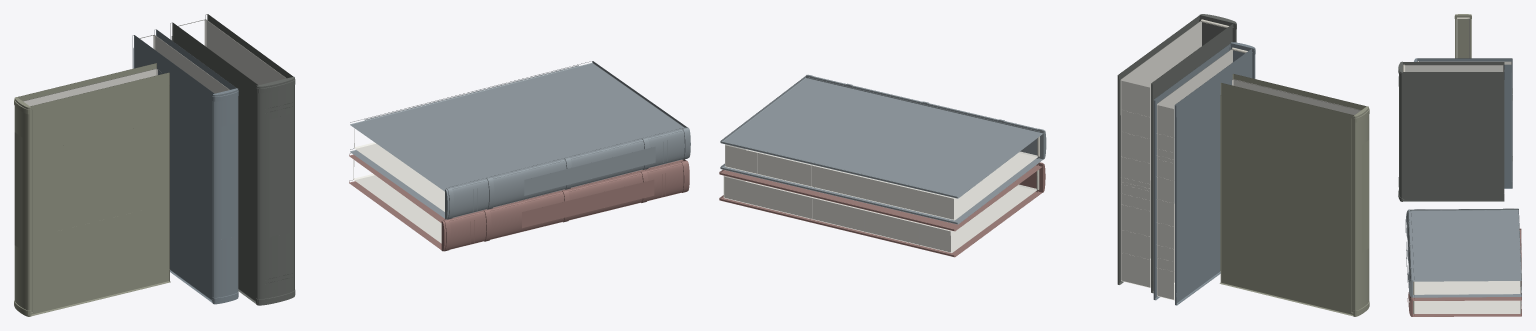
The model's file is X14_LRSGRAY_BOOKS_S04_bk0.glb.
3 renders of one model, left to right at view 1: azimuth 30°, elevation 25°; view 2: azimuth 150°, elevation 25°; view 3: azimuth 270°, elevation 25°, orthographic. The views are drawn at different scales.
Parts seen in each view (by area): view 1: S06_SPARSE_USED_A_S06_SPARSE_USED_B06_book_04_cover_-1, S06_SPARSE_USED_A_S06_SPARSE_USED_B01_book_01_cover_1, S06_SPARSE_USED_A_S06_SPARSE_USED_B02_book_01_cover_-1, S06_SPARSE_USED_A_S06_SPARSE_USED_B01_book_01_TITLE_SURFACE_ (×2), S06_SPARSE_USED_A_S06_SPARSE_USED_B03_book_05_spine, S06_SPARSE_USED_A_S06_SPARSE_USED_B03_book_05_cover_-1, S06_SPARSE_USED_A_S06_SPARSE_USED_B05_book_04_spine, S06_SPARSE_USED_A_S06_SPARSE_USED_B06_book_04_spine, S06_SPARSE_USED_A_S06_SPARSE_USED_B02_book_01_spine, S06_SPARSE_USED_A_S06_SPARSE_USED_B01_book_01_spine, S06_SPARSE_USED_A_S06_SPARSE_USED_B03_book_05_TITLE_SURFACE_, S06_SPARSE_USED_A_S06_SPARSE_USED_B05_book_04_TITLE_SURFACE_ (+13 smaller); view 2: S06_SPARSE_USED_A_S06_SPARSE_USED_B01_book_01_cover_-1, S06_SPARSE_USED_A_S06_SPARSE_USED_B06_book_04_cover_-1, S06_SPARSE_USED_A_S06_SPARSE_USED_B02_book_01_cover_-1, S06_SPARSE_USED_A_S06_SPARSE_USED_B03_book_05_pages, S06_SPARSE_USED_A_S06_SPARSE_USED_B05_book_04_pages, S06_SPARSE_USED_A_S06_SPARSE_USED_B06_book_04_pages, S06_SPARSE_USED_A_S06_SPARSE_USED_B02_book_01_pages, S06_SPARSE_USED_A_S06_SPARSE_USED_B01_book_01_spine, S06_SPARSE_USED_A_S06_SPARSE_USED_B05_book_04_cover_-1, S06_SPARSE_USED_A_S06_SPARSE_USED_B03_book_05_cover_-1, S06_SPARSE_USED_A_S06_SPARSE_USED_B05_book_04_cover_1, S06_SPARSE_USED_A_S06_SPARSE_USED_B06_book_04_cover_1 (+8 smaller); view 3: S06_SPARSE_USED_A_S06_SPARSE_USED_B03_book_05_cover_1, S06_SPARSE_USED_A_S06_SPARSE_USED_B06_book_04_cover_-1, S06_SPARSE_USED_A_S06_SPARSE_USED_B03_book_05_TITLE_SURFACE_, S06_SPARSE_USED_A_S06_SPARSE_USED_B06_book_04_pages, S06_SPARSE_USED_A_S06_SPARSE_USED_B05_book_04_pages, S06_SPARSE_USED_A_S06_SPARSE_USED_B02_book_01_cover_1, S06_SPARSE_USED_A_S06_SPARSE_USED_B01_book_01_spine, S06_SPARSE_USED_A_S06_SPARSE_USED_B03_book_05_pages, S06_SPARSE_USED_A_S06_SPARSE_USED_B03_book_05_spine, S06_SPARSE_USED_A_S06_SPARSE_USED_B05_book_04_cover_-1, S06_SPARSE_USED_A_S06_SPARSE_USED_B06_book_04_cover_1, S06_SPARSE_USED_A_S06_SPARSE_USED_B02_book_01_cover_-1 (+9 smaller).
Boxes of the visible parts, x1=… form: S06_SPARSE_USED_A_S06_SPARSE_USED_B06_book_04_cover_-1: x1=350, y1=61, x2=687, y2=191; S06_SPARSE_USED_A_S06_SPARSE_USED_B01_book_01_cover_1: x1=30, y1=72, x2=170, y2=316; S06_SPARSE_USED_A_S06_SPARSE_USED_B02_book_01_cover_-1: x1=132, y1=35, x2=214, y2=302; S06_SPARSE_USED_A_S06_SPARSE_USED_B01_book_01_TITLE_SURFACE_ (×2): x1=14, y1=126, x2=142, y2=250; S06_SPARSE_USED_A_S06_SPARSE_USED_B03_book_05_spine: x1=256, y1=76, x2=294, y2=305; S06_SPARSE_USED_A_S06_SPARSE_USED_B03_book_05_cover_-1: x1=170, y1=22, x2=258, y2=303; S06_SPARSE_USED_A_S06_SPARSE_USED_B05_book_04_spine: x1=441, y1=161, x2=689, y2=251; S06_SPARSE_USED_A_S06_SPARSE_USED_B06_book_04_spine: x1=445, y1=127, x2=690, y2=219; S06_SPARSE_USED_A_S06_SPARSE_USED_B02_book_01_spine: x1=212, y1=88, x2=238, y2=304; S06_SPARSE_USED_A_S06_SPARSE_USED_B01_book_01_spine: x1=14, y1=97, x2=31, y2=316; S06_SPARSE_USED_A_S06_SPARSE_USED_B03_book_05_TITLE_SURFACE_: x1=269, y1=115, x2=289, y2=237; S06_SPARSE_USED_A_S06_SPARSE_USED_B05_book_04_TITLE_SURFACE_: x1=522, y1=179, x2=654, y2=227; S06_SPARSE_USED_A_S06_SPARSE_USED_B01_book_01_cover_-1: x1=1219, y1=82, x2=1353, y2=316; S06_SPARSE_USED_A_S06_SPARSE_USED_B06_book_04_cover_-1: x1=720, y1=76, x2=1043, y2=198; S06_SPARSE_USED_A_S06_SPARSE_USED_B02_book_01_cover_-1: x1=1174, y1=48, x2=1251, y2=305; S06_SPARSE_USED_A_S06_SPARSE_USED_B03_book_05_pages: x1=1120, y1=21, x2=1226, y2=287; S06_SPARSE_USED_A_S06_SPARSE_USED_B05_book_04_pages: x1=723, y1=175, x2=1037, y2=252; S06_SPARSE_USED_A_S06_SPARSE_USED_B06_book_04_pages: x1=725, y1=138, x2=1038, y2=220; S06_SPARSE_USED_A_S06_SPARSE_USED_B02_book_01_pages: x1=1157, y1=49, x2=1245, y2=300; S06_SPARSE_USED_A_S06_SPARSE_USED_B01_book_01_spine: x1=1353, y1=106, x2=1368, y2=316; S06_SPARSE_USED_A_S06_SPARSE_USED_B05_book_04_cover_-1: x1=719, y1=165, x2=1042, y2=231; S06_SPARSE_USED_A_S06_SPARSE_USED_B03_book_05_cover_-1: x1=1151, y1=23, x2=1233, y2=293; S06_SPARSE_USED_A_S06_SPARSE_USED_B05_book_04_cover_1: x1=719, y1=192, x2=1042, y2=257; S06_SPARSE_USED_A_S06_SPARSE_USED_B06_book_04_cover_1: x1=720, y1=158, x2=1043, y2=224; S06_SPARSE_USED_A_S06_SPARSE_USED_B03_book_05_cover_1: x1=1403, y1=72, x2=1504, y2=201; S06_SPARSE_USED_A_S06_SPARSE_USED_B06_book_04_cover_-1: x1=1410, y1=208, x2=1521, y2=281; S06_SPARSE_USED_A_S06_SPARSE_USED_B03_book_05_TITLE_SURFACE_: x1=1419, y1=101, x2=1483, y2=152; S06_SPARSE_USED_A_S06_SPARSE_USED_B06_book_04_pages: x1=1414, y1=281, x2=1521, y2=294; S06_SPARSE_USED_A_S06_SPARSE_USED_B05_book_04_pages: x1=1414, y1=300, x2=1521, y2=313; S06_SPARSE_USED_A_S06_SPARSE_USED_B02_book_01_cover_1: x1=1504, y1=64, x2=1512, y2=188; S06_SPARSE_USED_A_S06_SPARSE_USED_B01_book_01_spine: x1=1455, y1=14, x2=1471, y2=58; S06_SPARSE_USED_A_S06_SPARSE_USED_B03_book_05_pages: x1=1404, y1=65, x2=1503, y2=71; S06_SPARSE_USED_A_S06_SPARSE_USED_B03_book_05_spine: x1=1399, y1=61, x2=1402, y2=201; S06_SPARSE_USED_A_S06_SPARSE_USED_B05_book_04_cover_-1: x1=1412, y1=228, x2=1521, y2=300; S06_SPARSE_USED_A_S06_SPARSE_USED_B06_book_04_cover_1: x1=1412, y1=287, x2=1521, y2=297; S06_SPARSE_USED_A_S06_SPARSE_USED_B02_book_01_cover_-1: x1=1417, y1=58, x2=1512, y2=64.
Size of the model in its own units: 0.6836 by 0.228 by 0.1982.
